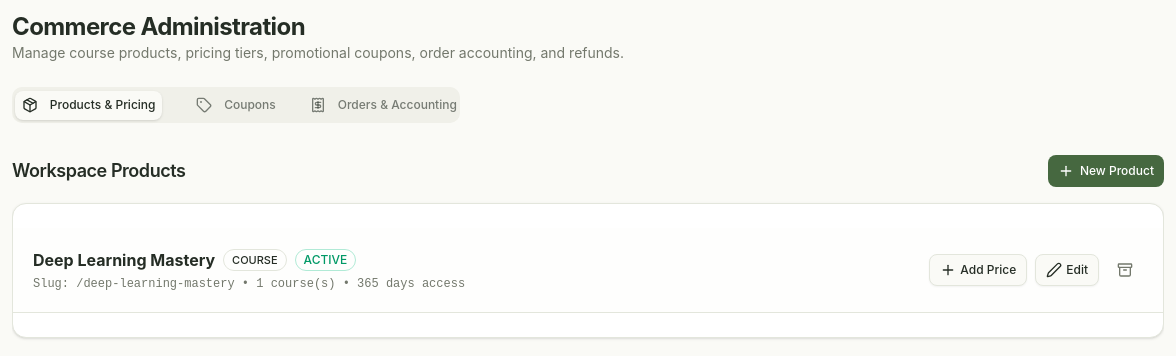
Scenario: AdminCommercePage › navigates to orders tab and displays orders ledger
Click the tab "Orders & Accounting": click(383, 105) [310,90,457,120]
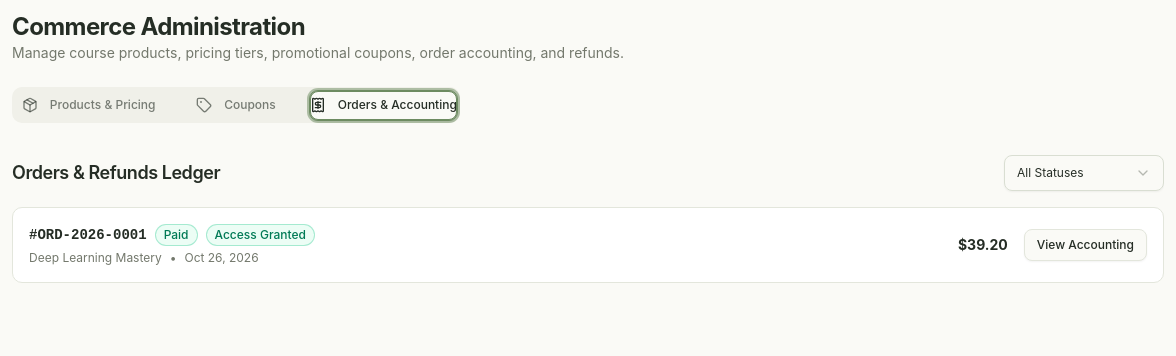
Now the text "#ORD-2026-0001" is shown, box [29,225,147,245]
Now the link "View Accounting" is shown, box [1024,229,1147,261]
